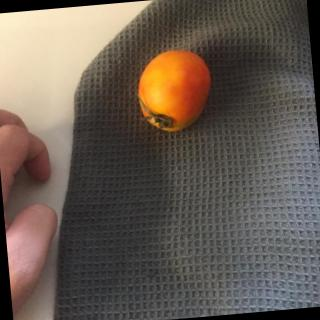Tomat: (120, 44, 234, 150)
